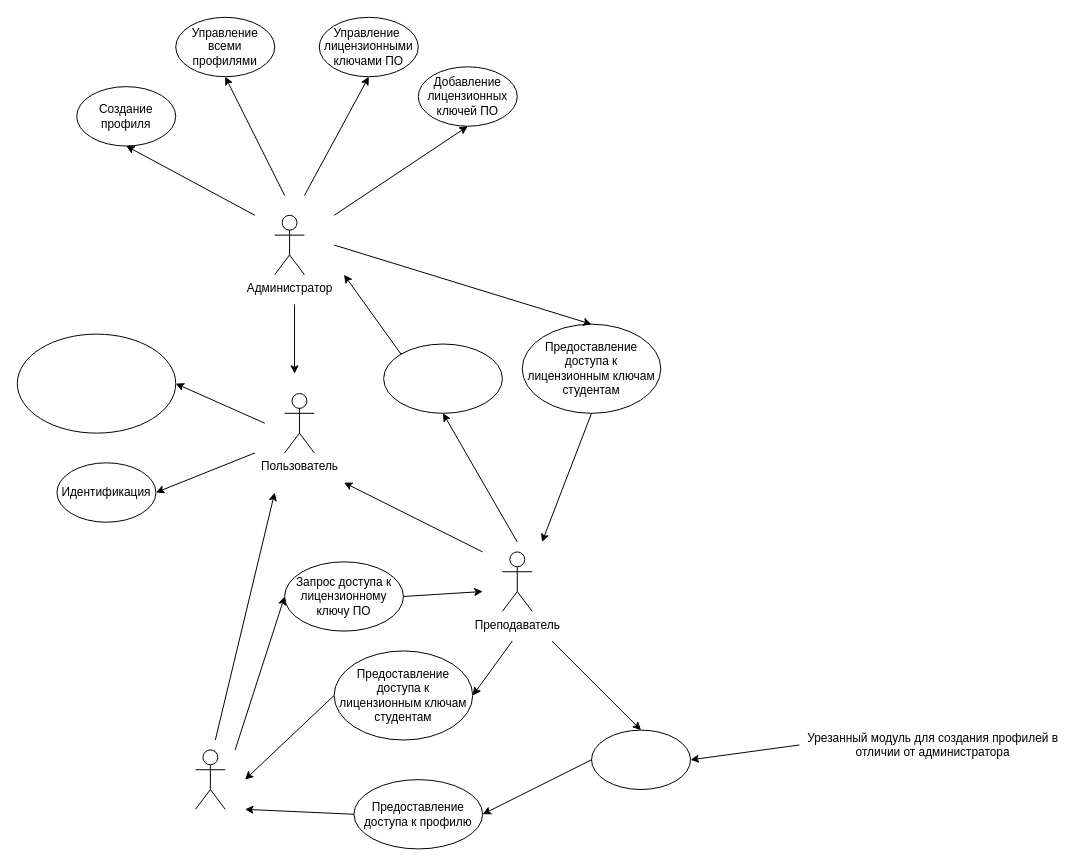
The diagram is 1084 pixels wide and 866 high, and some of its shapes have lost their labels. The box of each missing label's shape, as (x1, y1, x2, y2) in pixels:
Запрос доступа к лицензионным ключам ПО: (383, 343, 502, 413)
Просмотр доступных для использования лицензионных ключей ПО: (16, 333, 176, 433)
Создание профиля студенту: (591, 729, 691, 790)
Студент: (195, 749, 225, 809)
